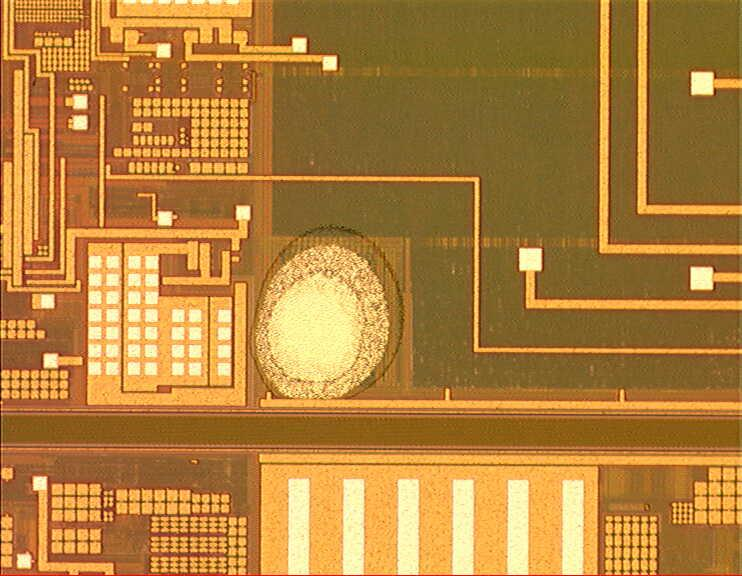BLOCK ETCH: (250, 224, 407, 405)
